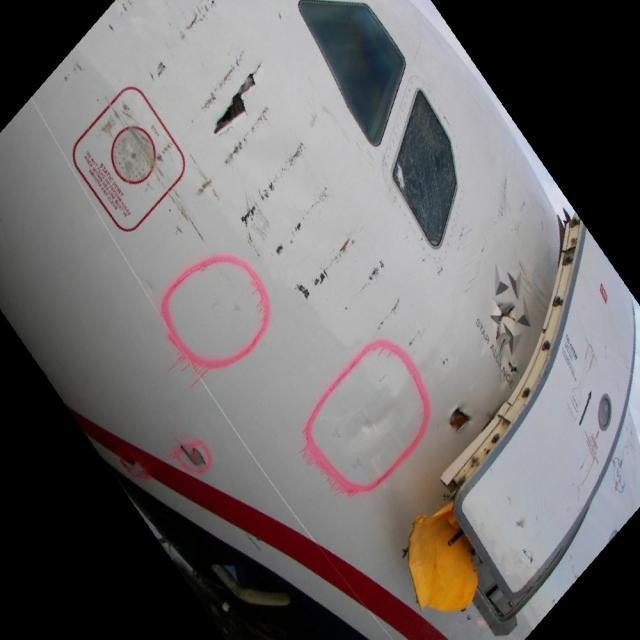crack: (210, 59, 263, 136), (448, 402, 481, 435)
dent: (351, 390, 400, 443)
